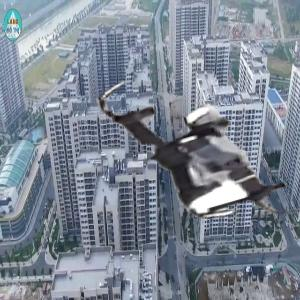drone: (101, 57, 289, 245)
